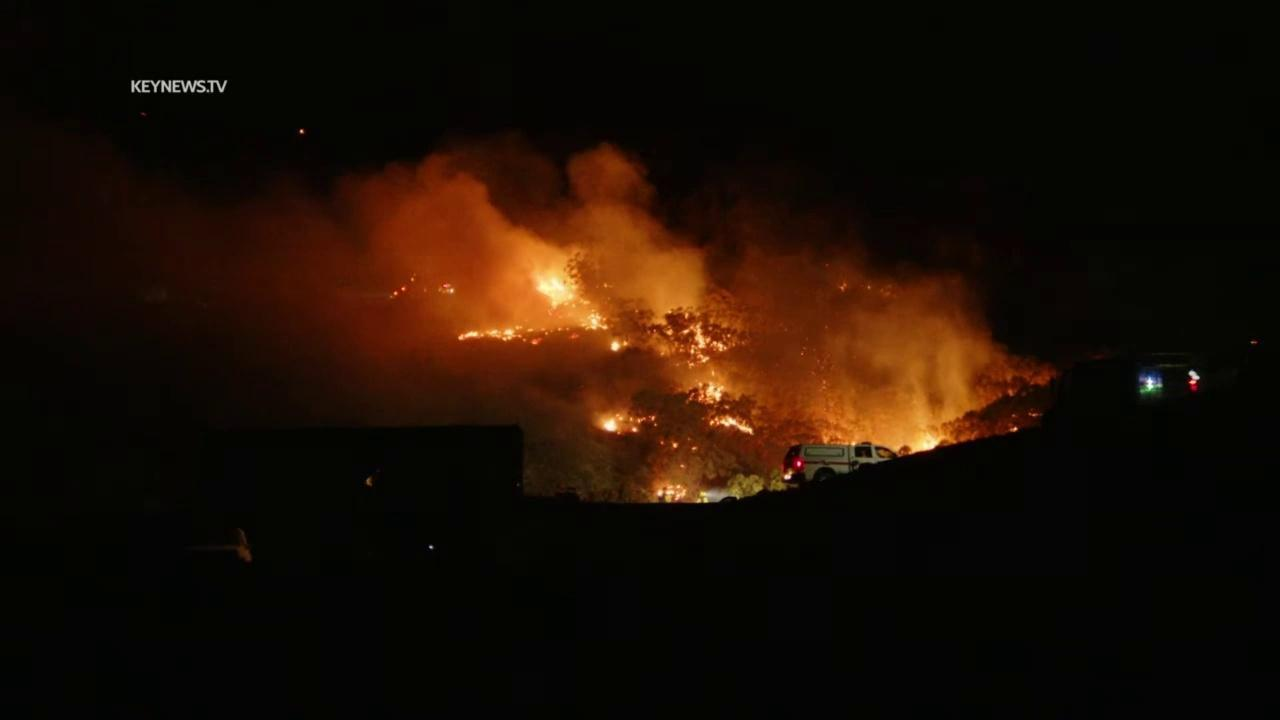fire: (664, 321, 731, 369), (535, 278, 584, 310), (458, 324, 526, 345), (602, 412, 657, 436), (707, 413, 755, 436), (695, 381, 725, 406), (655, 482, 689, 499), (585, 311, 609, 331), (435, 283, 455, 296), (608, 339, 622, 353), (919, 440, 935, 451), (837, 282, 850, 294), (847, 440, 857, 454), (529, 337, 544, 345), (568, 332, 581, 341), (1007, 426, 1019, 433), (671, 441, 681, 449), (866, 284, 872, 291), (659, 440, 665, 445), (692, 446, 697, 452), (410, 277, 415, 283), (393, 291, 398, 296), (400, 287, 406, 291)
smoke: (137, 134, 996, 504)
